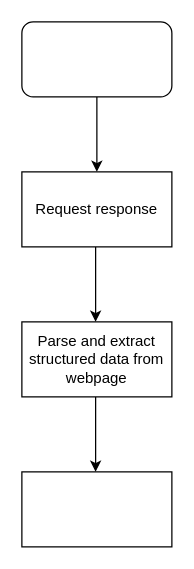
This 194x569 diagram has some shape labels left out. Each missing label, with the centre of its shape:
"Start" goes at point 96,59.
"stores data in database" goes at point 96,509.
